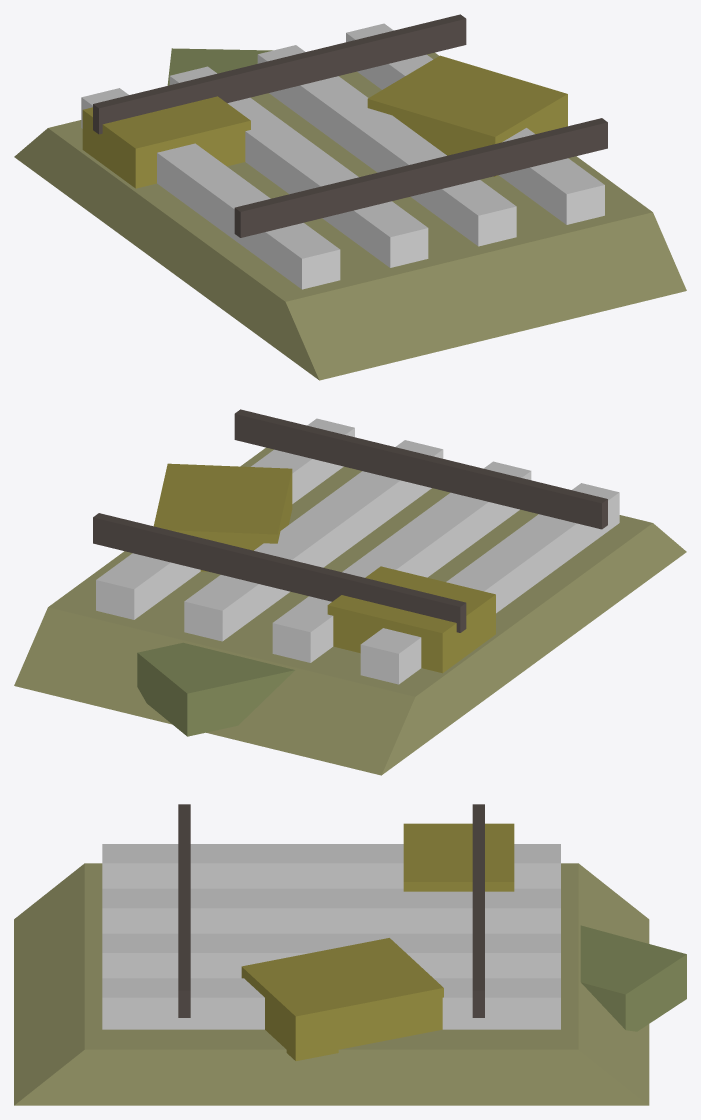
File: SM_Via_Recta2_v2_Maleza_LOD0.fbx
3 views of the same model, one above another, from view 1: azimuth 30°, elevation 25°; view 2: azimuth 150°, elevation 25°; view 3: azimuth 270°, elevation 25° (orthographic). The views are drawn at different scales.
Parts seen in each view (by area): view 1: SM_via_trazado_v7_LOD0; view 2: SM_via_trazado_v7_LOD0; view 3: SM_via_trazado_v7_LOD0.
Part boxes in pixels (x1,y1,x2,y2): SM_via_trazado_v7_LOD0: (14, 14, 686, 380); SM_via_trazado_v7_LOD0: (14, 409, 686, 775); SM_via_trazado_v7_LOD0: (14, 804, 686, 1105).
Bounding box in the file's own units: 2.61 × 0.72 × 3.81.
